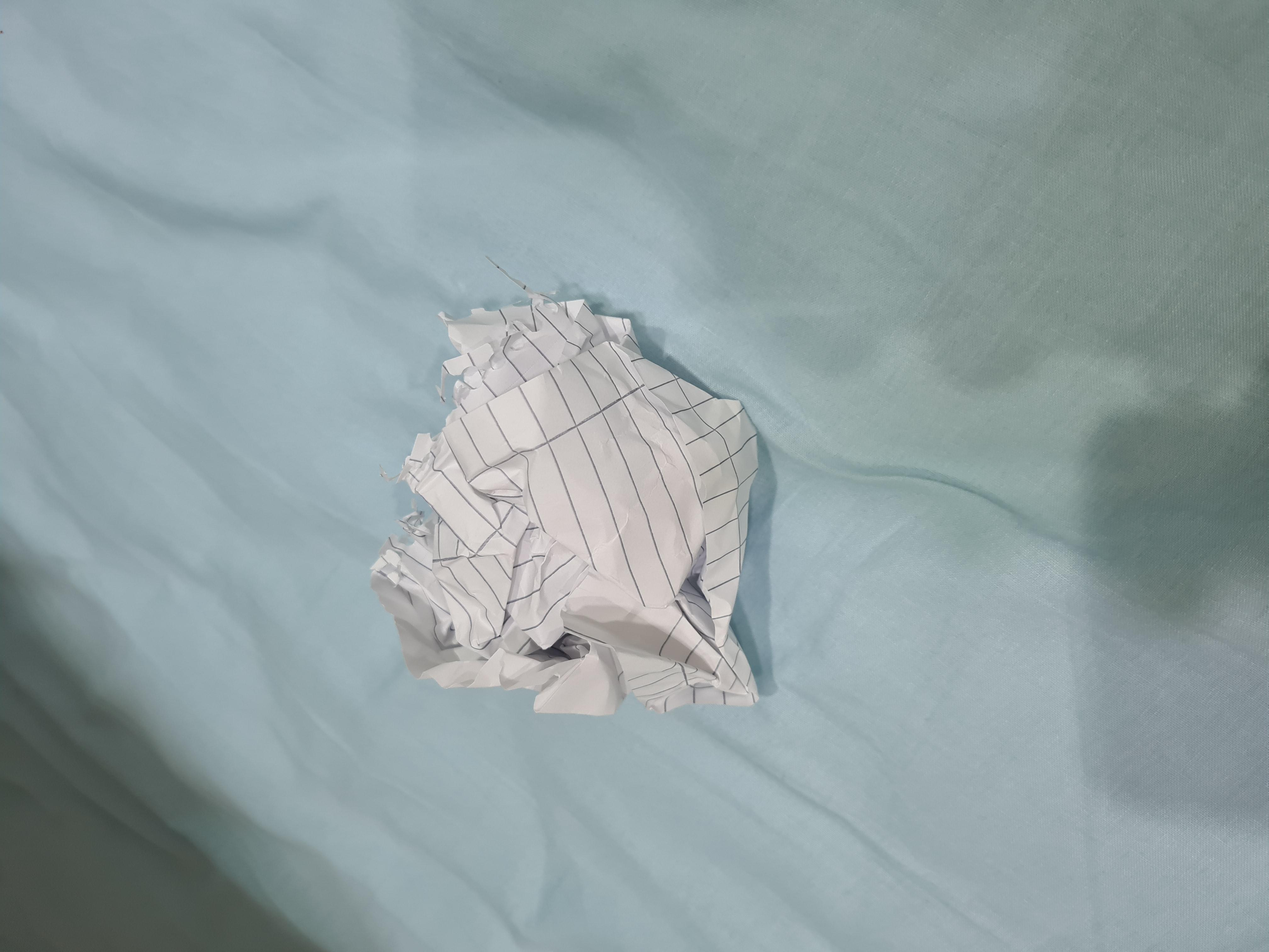paper: (316, 293, 845, 570)
